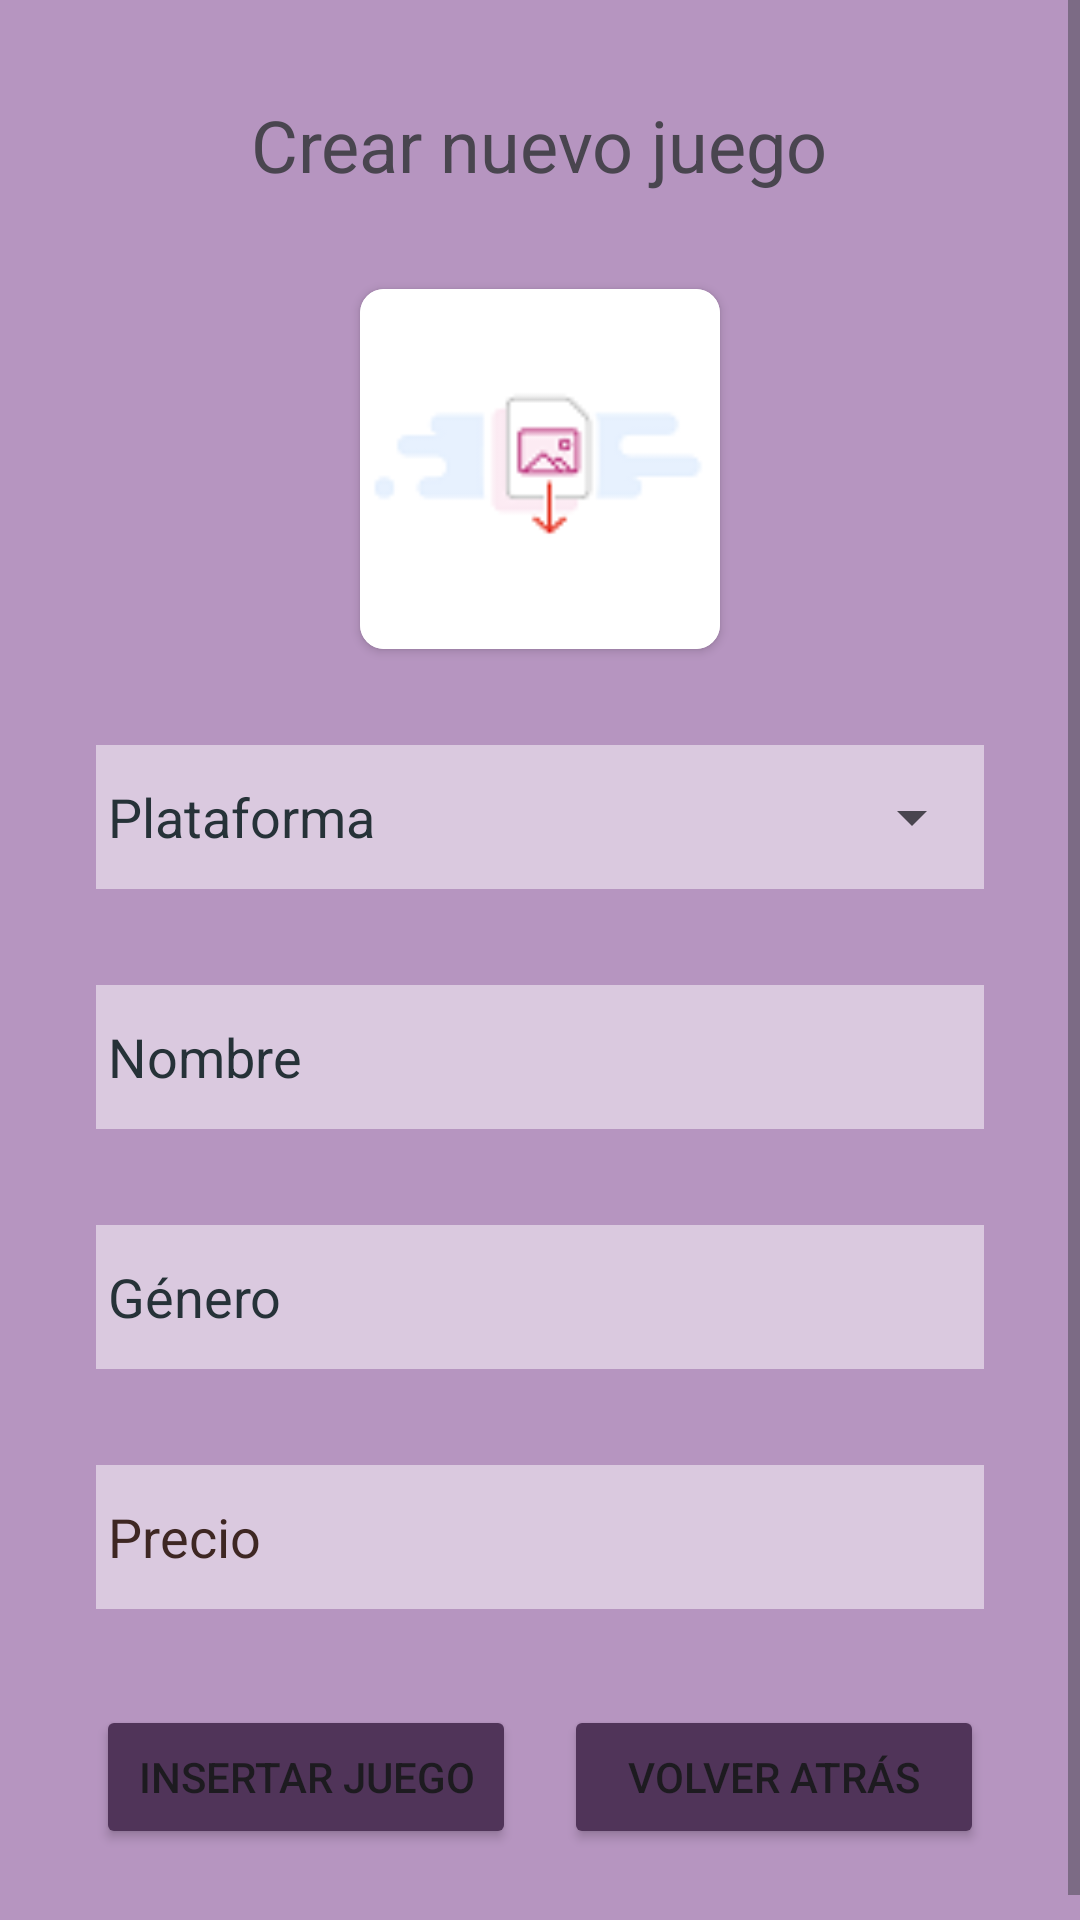

Icon bounding boxes for this 1080×1920 phone screenshot, format (x1, y1, x2, y2):
foto del juego: (360, 289, 720, 649)
